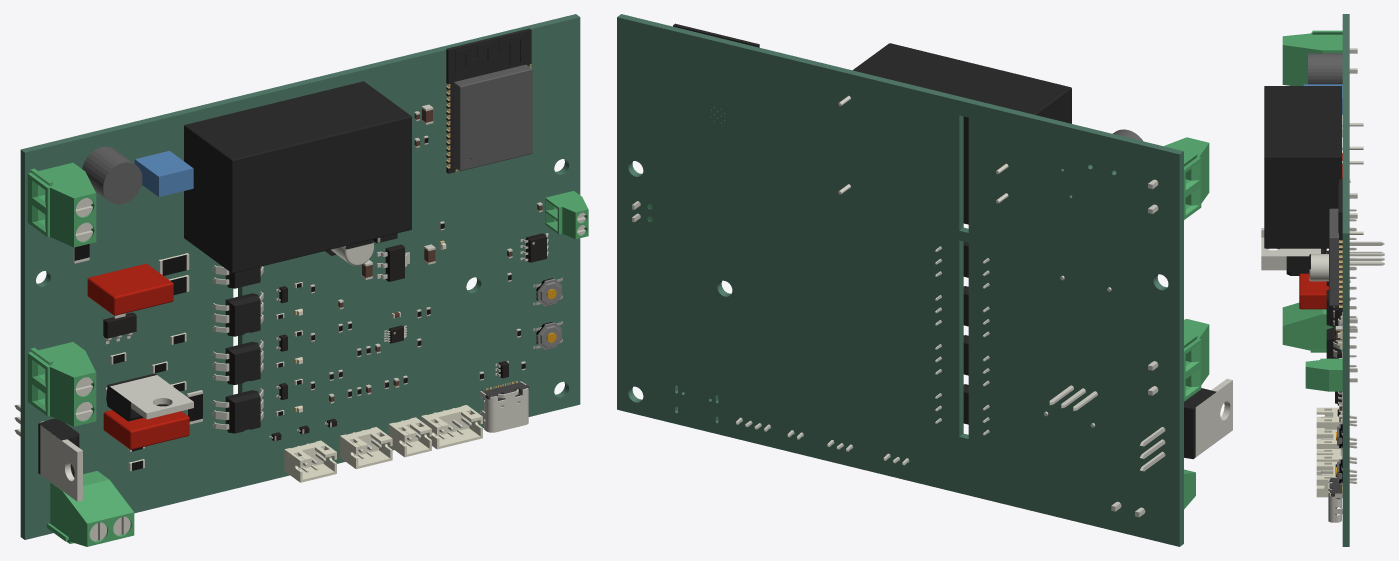
The model's file is board.glb.
3 renders of one model, left to right at view 1: azimuth 30°, elevation 25°; view 2: azimuth 150°, elevation 25°; view 3: azimuth 270°, elevation 25°, orthographic. The views are drawn at different scales.
Visible parts, largest first — view 1: =>[0:1:1:54], =>[0:1:1:23]_dd9497, =>[0:1:1:43]_68e00f, =>[0:1:1:29], =>[0:1:1:29]_1, =>[0:1:1:29]_2_0f8463, =>[0:1:1:43]_c93951, =>[0:1:1:45]_1_7e6d1a, F1, =>[0:1:1:35]_1_fc100a, =>[0:1:1:45]_4c518a, =>[0:1:1:35] (+12 smaller); view 2: =>[0:1:1:54], =>[0:1:1:23]_dd9497, =>[0:1:1:35]_1_fc100a, =>[0:1:1:29]_1, =>[0:1:1:29], =>[0:1:1:35]_1_7bbba9; view 3: =>[0:1:1:23]_dd9497, =>[0:1:1:54], =>[0:1:1:29]_1, =>[0:1:1:29]_2_0f8463, =>[0:1:1:47]_0d6086, F1, =>[0:1:1:35], =>[0:1:1:43]_68e00f, =>[0:1:1:45]_4c518a, =>[0:1:1:35]_1_fc100a, =>[0:1:1:53]_0c383b, =>[0:1:1:25]_1_a36c64 (+13 smaller).
Boxes of the visible parts, bbox=[...] form: =>[0:1:1:54]: bbox=[20, 14, 580, 539]; =>[0:1:1:23]_dd9497: bbox=[184, 81, 411, 273]; =>[0:1:1:43]_68e00f: bbox=[454, 64, 532, 171]; =>[0:1:1:29]: bbox=[27, 342, 96, 426]; =>[0:1:1:29]_1: bbox=[27, 162, 96, 247]; =>[0:1:1:29]_2_0f8463: bbox=[47, 471, 134, 546]; =>[0:1:1:43]_c93951: bbox=[446, 28, 531, 173]; =>[0:1:1:45]_1_7e6d1a: bbox=[87, 263, 173, 315]; F1: bbox=[82, 146, 142, 204]; =>[0:1:1:35]_1_fc100a: bbox=[14, 404, 82, 501]; =>[0:1:1:45]_4c518a: bbox=[103, 410, 189, 449]; =>[0:1:1:35]: bbox=[105, 375, 193, 419]; =>[0:1:1:54]: bbox=[617, 14, 1183, 546]; =>[0:1:1:23]_dd9497: bbox=[853, 43, 1071, 224]; =>[0:1:1:35]_1_fc100a: bbox=[1140, 378, 1232, 471]; =>[0:1:1:29]_1: bbox=[1163, 137, 1209, 219]; =>[0:1:1:29]: bbox=[1184, 319, 1209, 401]; =>[0:1:1:35]_1_7bbba9: bbox=[1184, 388, 1216, 459]; =>[0:1:1:23]_dd9497: bbox=[1264, 86, 1341, 248]; =>[0:1:1:54]: bbox=[1342, 14, 1349, 546]; =>[0:1:1:29]_1: bbox=[1282, 30, 1342, 85]; =>[0:1:1:29]_2_0f8463: bbox=[1282, 302, 1342, 352]; =>[0:1:1:47]_0d6086: bbox=[1305, 358, 1342, 391]; F1: bbox=[1308, 53, 1342, 84]; =>[0:1:1:35]: bbox=[1261, 237, 1384, 265]; =>[0:1:1:43]_68e00f: bbox=[1329, 208, 1338, 305]; =>[0:1:1:45]_4c518a: bbox=[1299, 273, 1328, 309]; =>[0:1:1:35]_1_fc100a: bbox=[1261, 228, 1384, 270]; =>[0:1:1:53]_0c383b: bbox=[1316, 461, 1337, 497]; =>[0:1:1:25]_1_a36c64: bbox=[1316, 407, 1342, 438].
Size of the model in its own units: 120 by 80.25 by 28.52.
